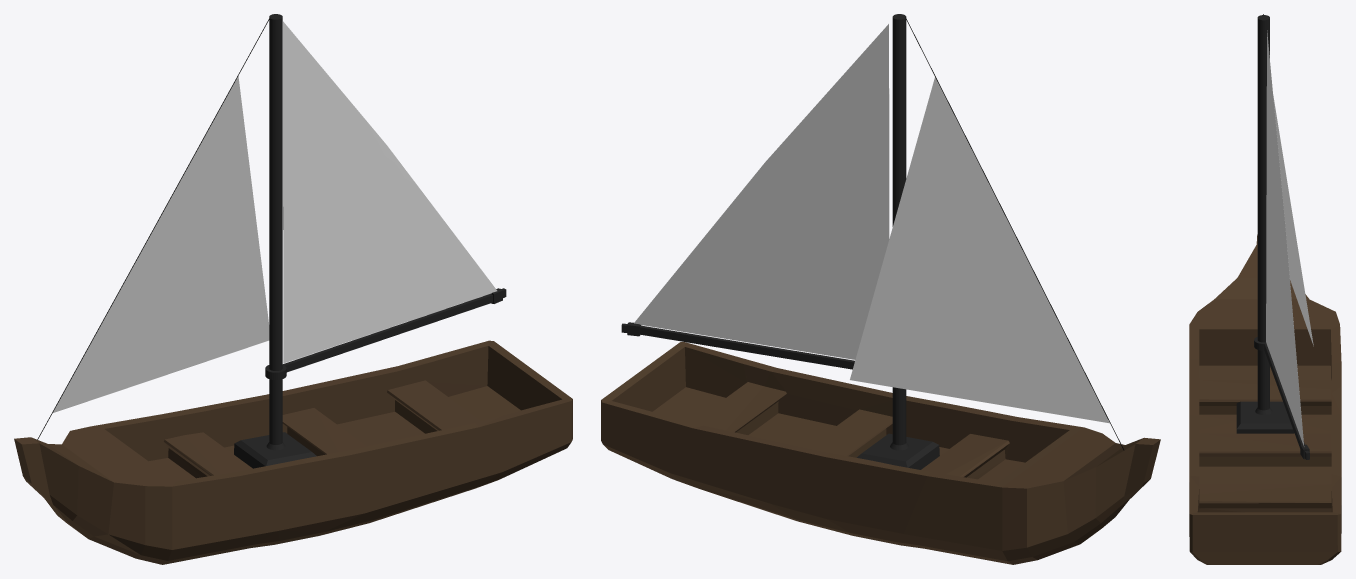
The model's file is wip_boat_optimized_with_2sail_5.fbx.
3 views of the same model, side by side, from view 1: azimuth 30°, elevation 25°; view 2: azimuth 150°, elevation 25°; view 3: azimuth 270°, elevation 25° (orthographic). The views are drawn at different scales.
Visible parts, largest first — view 1: Boat, Back Sail, Plane, Mast; view 2: Boat, Back Sail, Plane, Mast; view 3: Boat, Back Sail, Mast, Plane.
Boxes of the visible parts, box(x1,y1,x2,y2) form: Boat: box(14, 340, 572, 564); Back Sail: box(283, 21, 497, 363); Plane: box(53, 76, 269, 412); Mast: box(265, 14, 506, 450); Boat: box(601, 342, 1160, 564); Back Sail: box(634, 24, 889, 359); Plane: box(850, 77, 1109, 423); Mast: box(621, 14, 908, 450); Boat: box(1189, 234, 1341, 564); Back Sail: box(1266, 30, 1304, 446); Mast: box(1254, 15, 1309, 459); Plane: box(1273, 96, 1313, 346).
Size of the model in its own units: 1741 by 1614 by 485.
